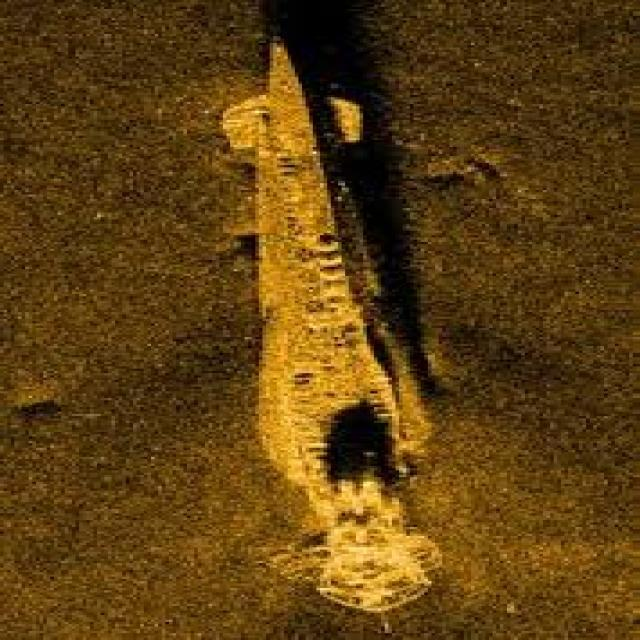shipwreck: (212, 31, 442, 564)
